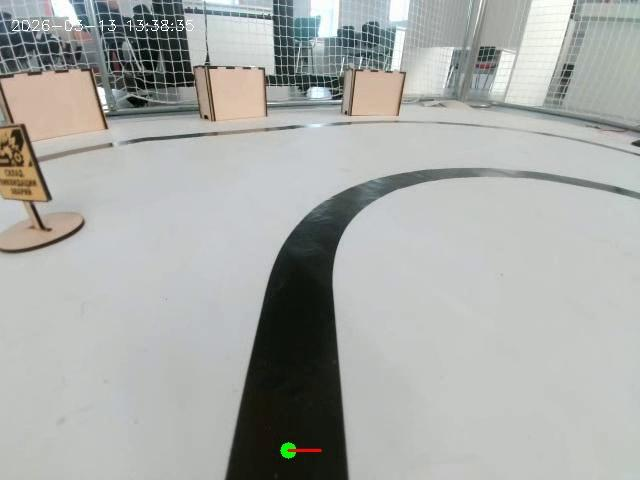industrial: (0, 122, 79, 200)
